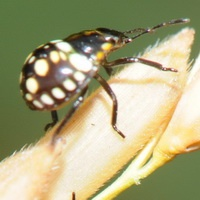insect: (21, 28, 130, 109)
